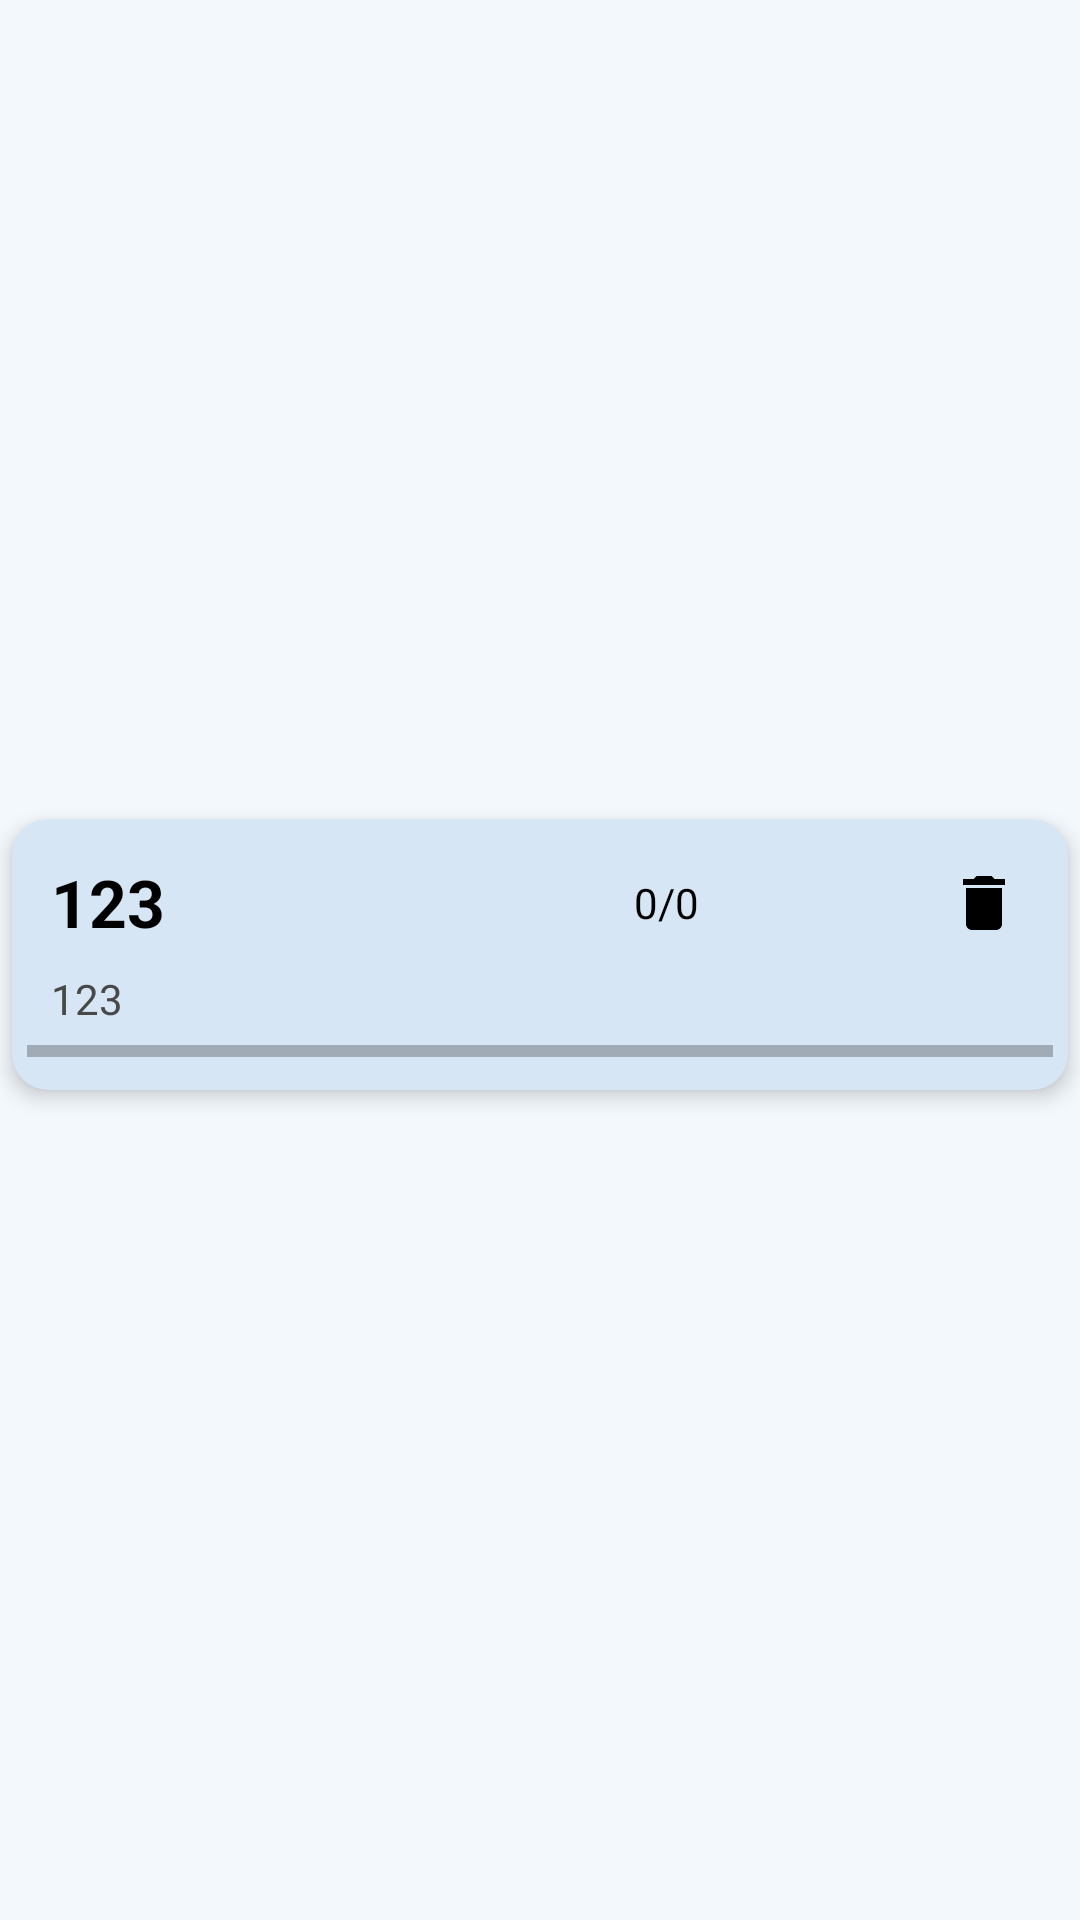

Named icons in this screenshot (1080x1920) and their centers, [x,y]:
delete: [984,903]
